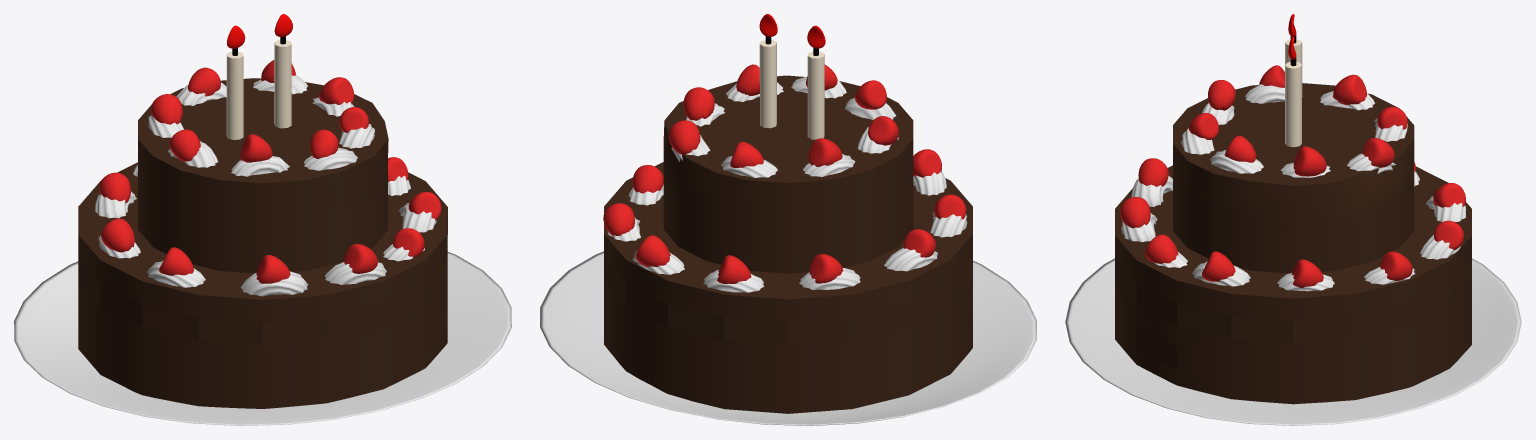
Rendered from Cake.fbx.
3 views of the same model, side by side, from view 1: azimuth 30°, elevation 25°; view 2: azimuth 150°, elevation 25°; view 3: azimuth 270°, elevation 25° (orthographic). The views are drawn at different scales.
Parts seen in each view (by area): view 1: Cylinder001, Cylinder002, Sphere024, Cylinder004, Cylinder006, Star018, Sphere022, Star019, Sphere008, Star008, Sphere002, Sphere019 (+18 smaller); view 2: Cylinder001, Cylinder002, Sphere024, Cylinder006, Cylinder004, Sphere001, Sphere002, Sphere015, Sphere014, Star016, Sphere006, Sphere008 (+17 smaller); view 3: Cylinder001, Cylinder002, Sphere024, Cylinder004, Sphere008, Sphere002, Sphere019, Sphere018, Sphere020, Sphere015, Sphere017, Sphere001 (+20 smaller).
Part boxes in pixels (x1,y1,x2,y2): Cylinder001: (78, 162, 447, 408); Cylinder002: (138, 78, 388, 273); Sphere024: (14, 252, 511, 425); Cylinder004: (274, 40, 291, 128); Cylinder006: (226, 51, 243, 139); Star018: (240, 271, 308, 296); Sphere022: (101, 218, 134, 252); Star019: (325, 262, 386, 284); Sphere008: (151, 94, 182, 124); Star008: (231, 156, 289, 176); Sphere002: (319, 77, 354, 104); Sphere019: (344, 244, 377, 273); Cylinder001: (604, 162, 972, 413); Cylinder002: (663, 75, 913, 273); Sphere024: (540, 251, 1036, 425); Cylinder006: (807, 51, 824, 139); Cylinder004: (759, 40, 776, 128); Sphere001: (668, 120, 700, 154); Sphere002: (683, 87, 714, 120); Sphere015: (603, 203, 634, 235); Sphere014: (635, 235, 670, 267); Star016: (883, 247, 937, 271); Sphere006: (854, 80, 886, 109); Sphere008: (808, 138, 842, 166); Cylinder001: (1115, 165, 1471, 404); Cylinder002: (1173, 83, 1414, 273); Sphere024: (1065, 258, 1521, 425); Cylinder004: (1285, 62, 1301, 147); Sphere008: (1332, 74, 1366, 104); Sphere002: (1293, 146, 1326, 176); Sphere019: (1120, 197, 1150, 228); Sphere018: (1145, 234, 1178, 263); Sphere020: (1138, 158, 1168, 186); Sphere015: (1380, 251, 1412, 280); Sphere017: (1202, 251, 1235, 281); Sphere001: (1362, 138, 1394, 167).
Size of the model in its own units: 53.69 by 38.92 by 49.9.
